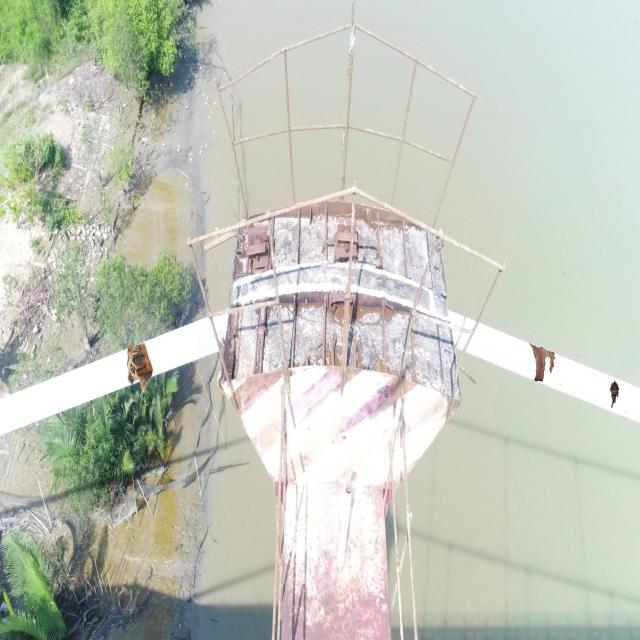corrosion: (125, 342, 154, 394), (528, 342, 556, 384), (608, 376, 620, 412)
